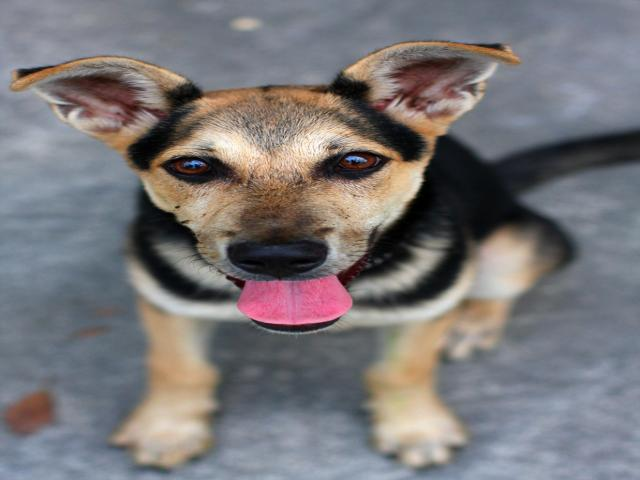Dog: (5, 44, 640, 471)
